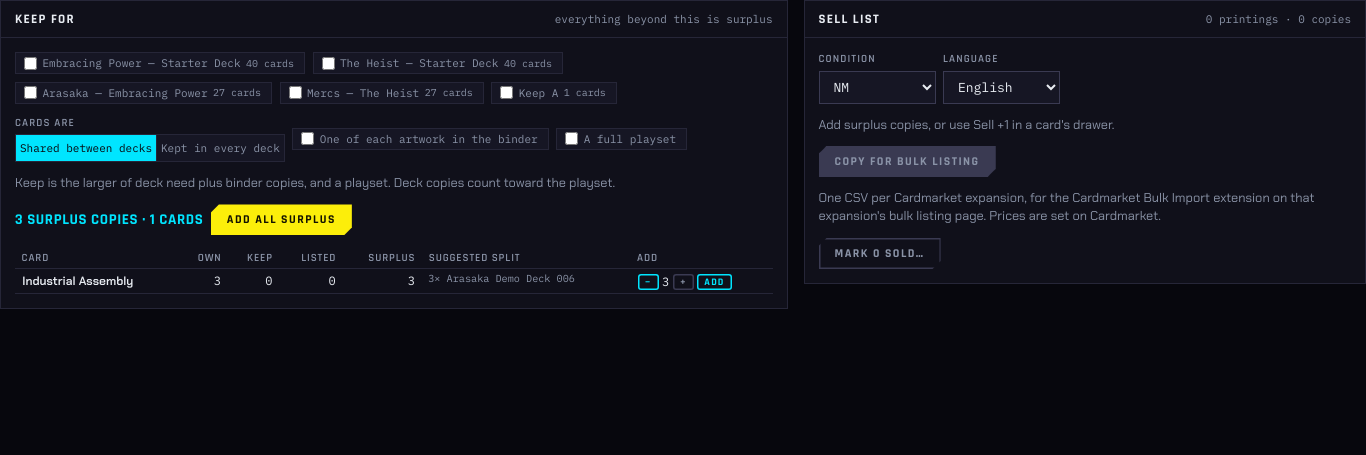
Test case: SellMode › marks checked lines sold after a confirm and journals a Sale
Step 1. Click the checkbox labelled "Keep A" → (507, 92), box [500,86,513,99]
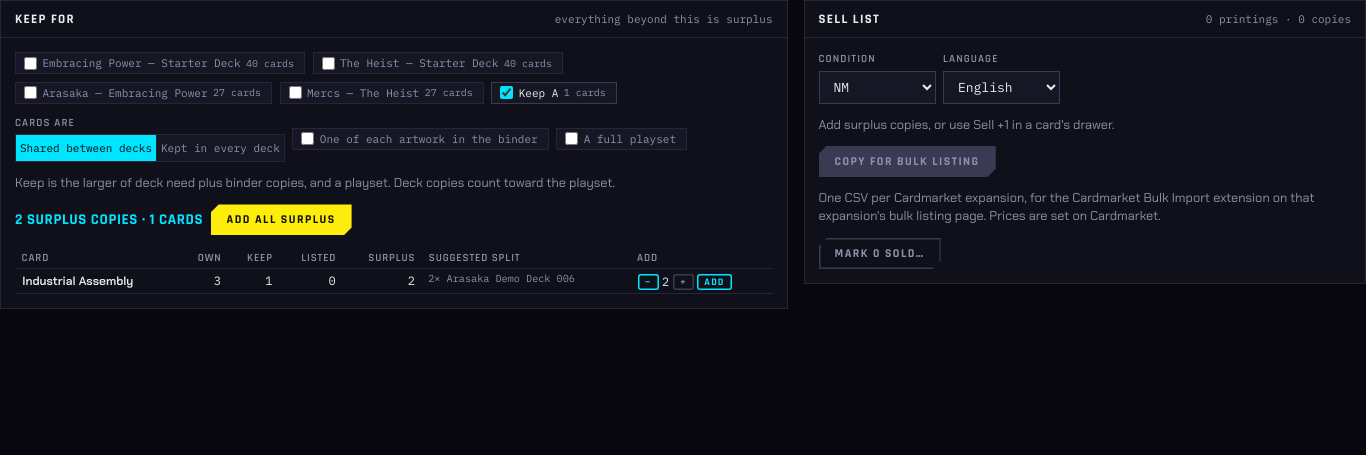
Step 2. Click the button with test id "sell-add-all" → (281, 220), box [211,204,352,236]
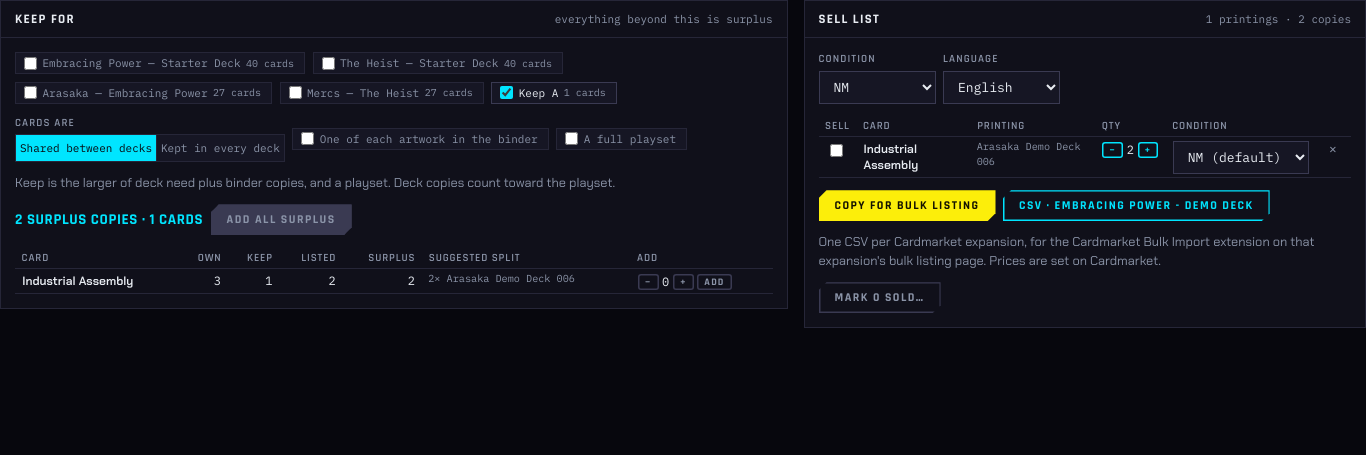
Step 3. Click the checkbox named "Select Industrial Assembly Arasaka Demo Deck 006" → (836, 150), box [830,144,843,157]
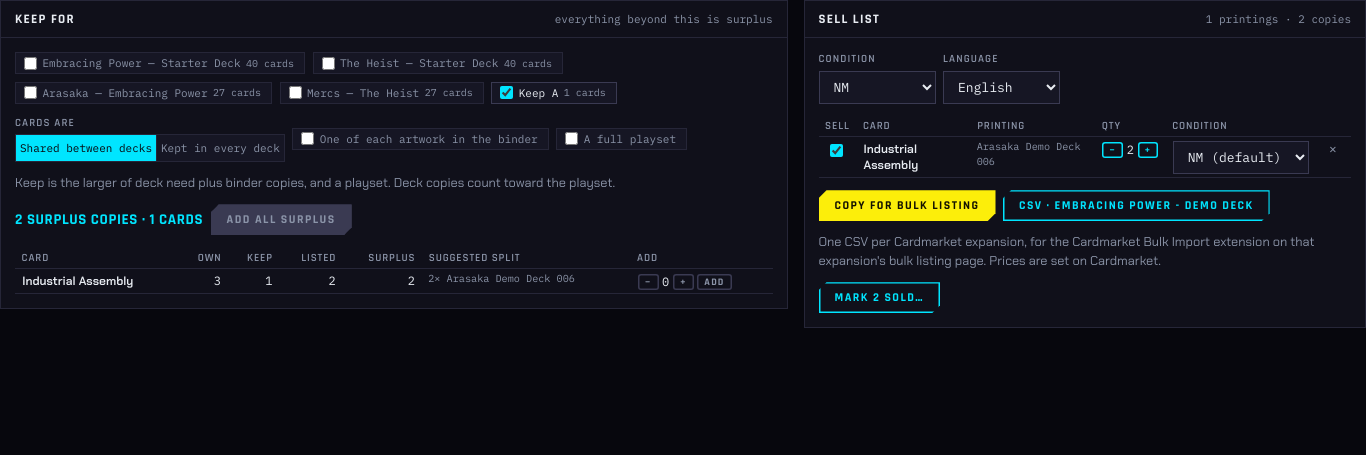
Step 4. Click the button with test id "sell-mark" → (879, 298), box [818,282,940,313]
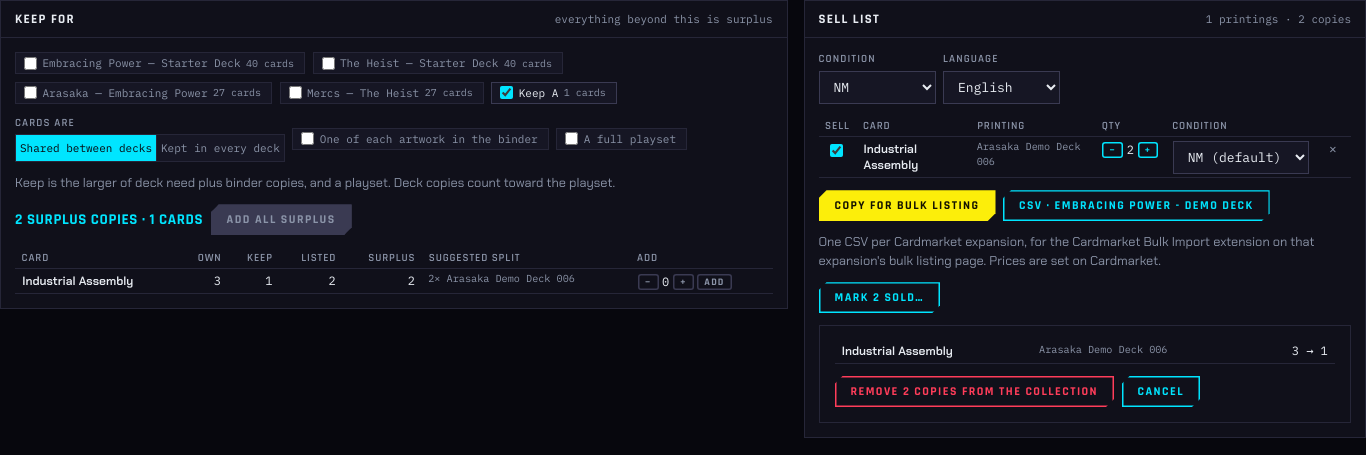
Result: the text "3 → 1" is shown at [1255,340,1335,364]
Step 5. Click the button with test id "sell-confirm-ok" → (974, 391), box [834,376,1114,407]
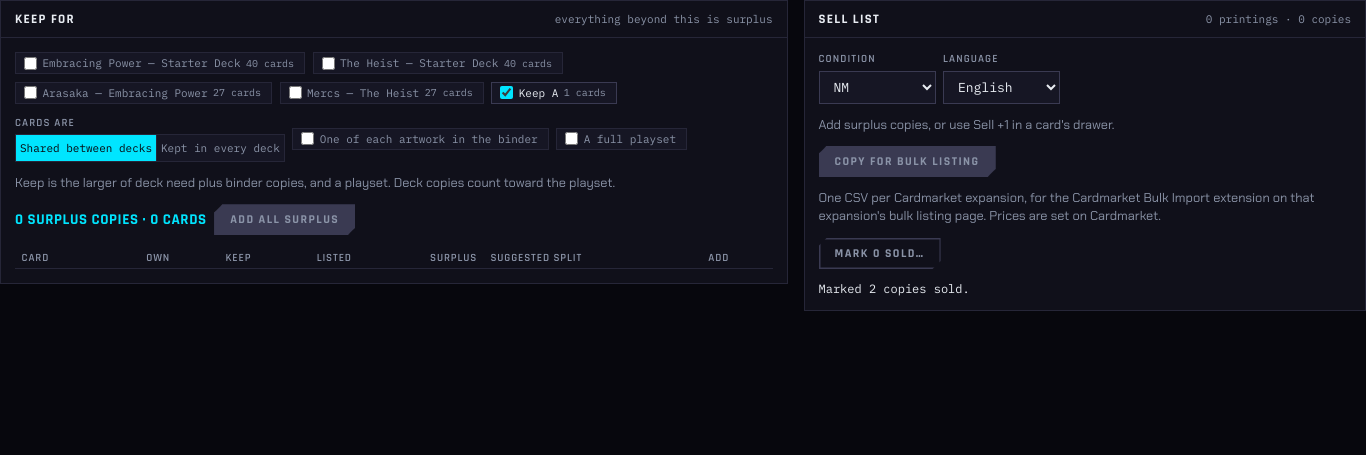
Result: the message with test id "sell-status" shows "2 copies sold" at [818,281,970,296]
